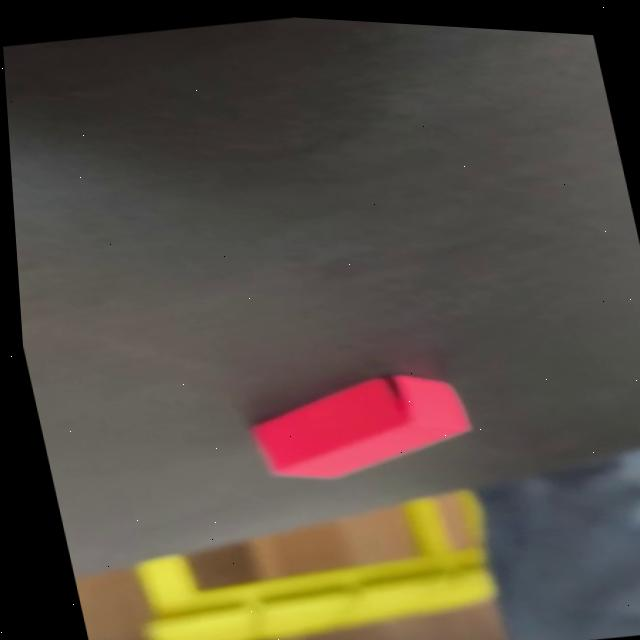red block: (239, 355, 485, 501)
